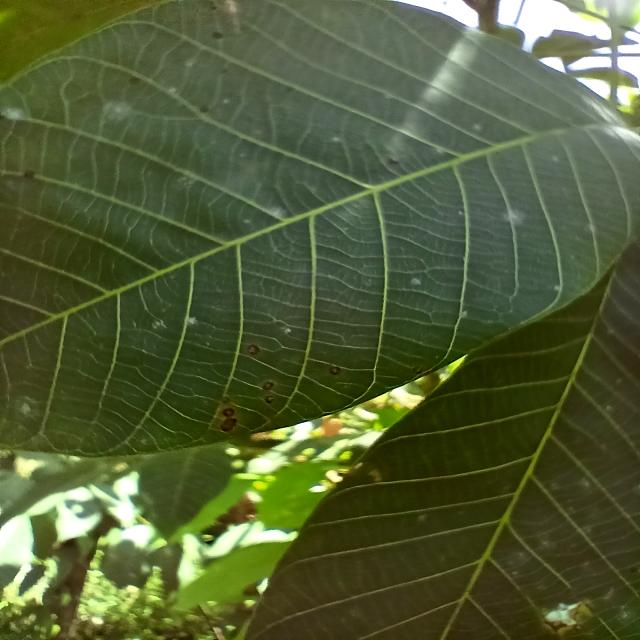Colletotrichum: (220, 418, 237, 432), (247, 344, 260, 356), (329, 366, 341, 376), (262, 382, 274, 391), (223, 408, 235, 417), (265, 396, 274, 403)
